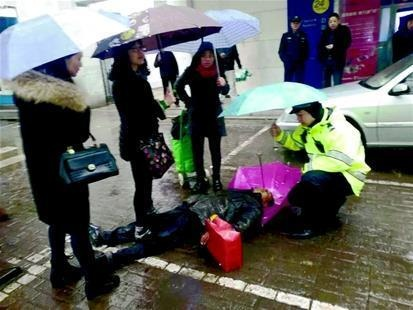falling: (83, 174, 284, 274)
